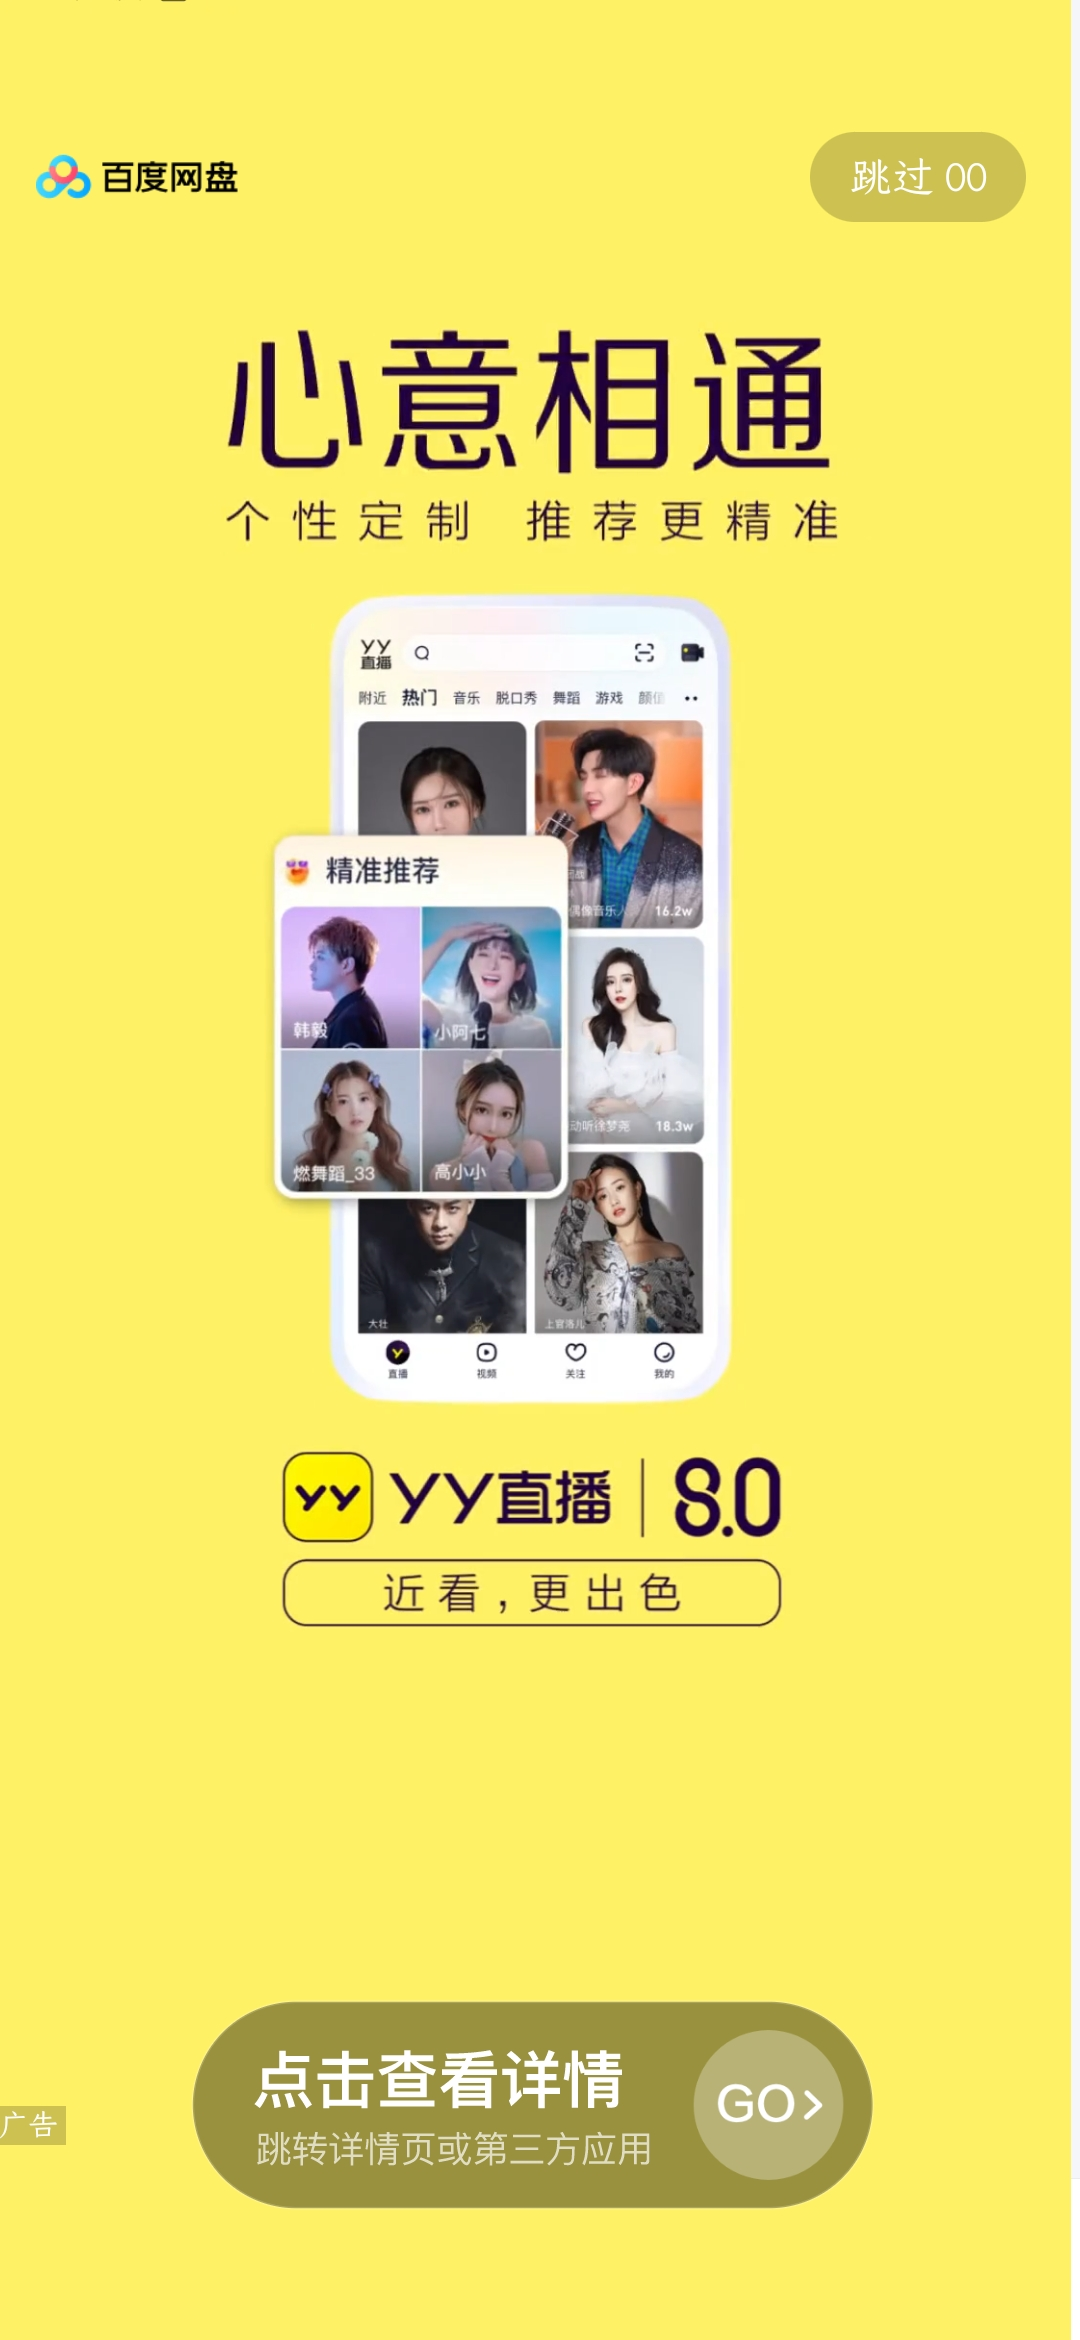skip: (832, 133, 1004, 219)
